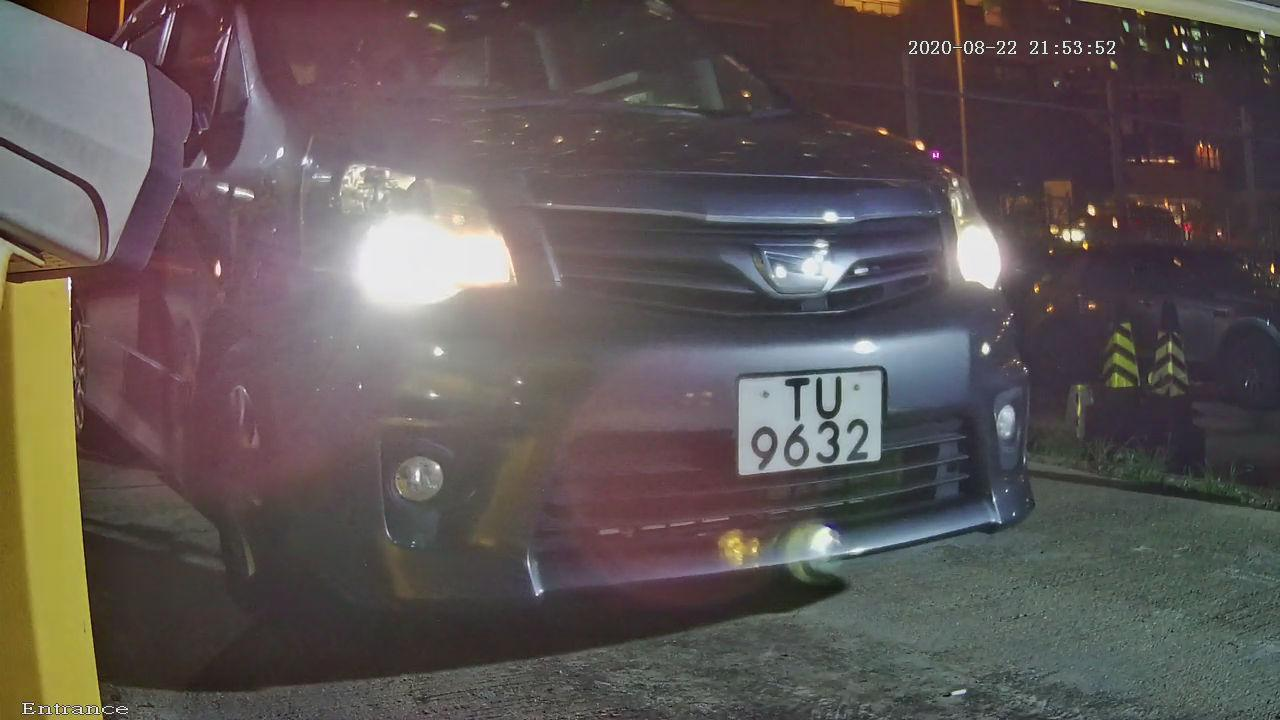Car: (41, 17, 1126, 659)
License Plate: (715, 357, 903, 496)
